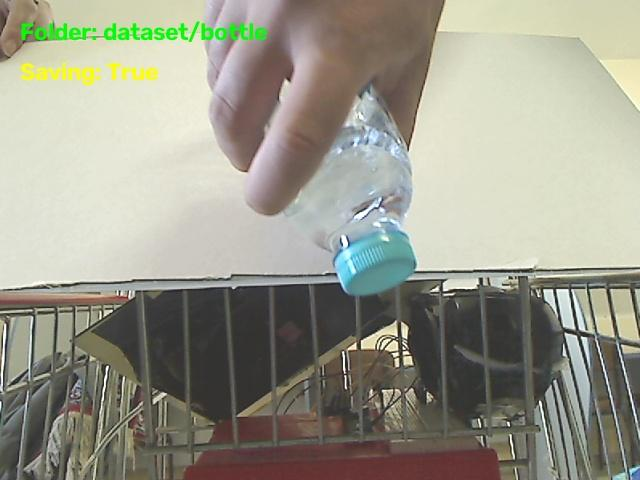Bottle: (285, 87, 415, 295)
